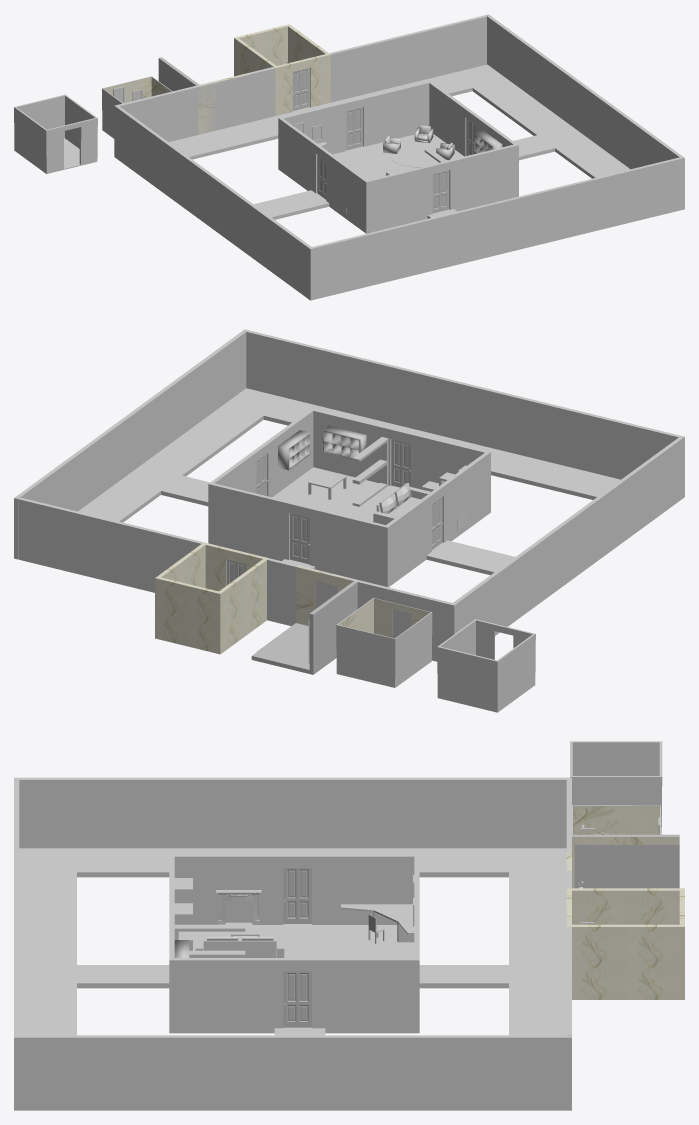
The model's file is Wall with the door.fbx.
The picture shows the model from 3 angles, top to bottom: view 1: azimuth 30°, elevation 25°; view 2: azimuth 150°, elevation 25°; view 3: azimuth 270°, elevation 25°; orthographic projection. The views are drawn at different scales.
Parts seen in each view (by area): view 1: Plane.039, Plane.037, Plane.038, Plane.035, Plane.032, Plane.036, Plane.029, Plane.013, Plane.031, Plane.034, Plane.017, Plane.033 (+16 smaller); view 2: Plane.039, Plane.037, Plane.038, Plane.035, Plane.031, Plane.013, Plane.029, Plane.034, Plane.018, Plane.032, Plane.036, Plane (+18 smaller); view 3: Plane.038, Plane.037, Plane.033, Plane.034, Plane.018, Plane.017, Plane.028, Plane.015, Plane.013, pngwing.com (2), Plane.030, Plane.021 (+15 smaller).
Boxes of the visible parts, box(x1,y1,x2,y2) form: Plane.039: box(308, 156, 684, 300); Plane.037: box(114, 105, 311, 298); Plane.038: box(485, 14, 682, 169); Plane.035: box(329, 15, 486, 102); Plane.032: box(368, 144, 515, 232); Plane.036: box(118, 67, 275, 141); Plane.029: box(453, 64, 629, 178); Plane.013: box(14, 94, 97, 173); Plane.031: box(282, 81, 429, 154); Plane.034: box(278, 117, 369, 233); Plane.017: box(169, 73, 472, 159); Plane.033: box(428, 81, 518, 197); Plane.039: box(243, 329, 684, 498); Plane.037: box(450, 437, 682, 636); Plane.038: box(14, 331, 246, 559); Plane.035: box(18, 497, 203, 592); Plane.031: box(212, 483, 385, 585); Plane.013: box(437, 619, 535, 712); Plane.029: box(78, 405, 263, 522); Plane.034: box(383, 451, 490, 587); Plane.018: box(223, 388, 620, 499); Plane.032: box(313, 409, 486, 489); Plane.036: box(267, 558, 451, 661); Plane: box(336, 598, 432, 687); Plane.038: box(19, 1035, 571, 1110); Plane.037: box(19, 777, 571, 848); Plane.033: box(169, 958, 419, 1033); Plane.034: box(169, 854, 419, 924); Plane.018: box(19, 848, 76, 1035); Plane.017: box(509, 872, 566, 1035); Plane.028: box(77, 848, 566, 877); Plane.015: box(566, 924, 679, 999); Plane.013: box(570, 741, 662, 834); pngwing.com (2): box(572, 834, 679, 888); Plane.030: box(193, 925, 414, 957); Plane.021: box(572, 888, 679, 924).
Bounding box in the file's own units: 2707 × 306 × 2496.
